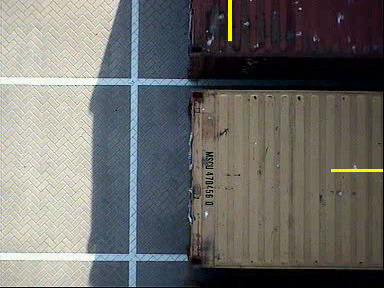groundmarker_2: (81, 62, 160, 121)
